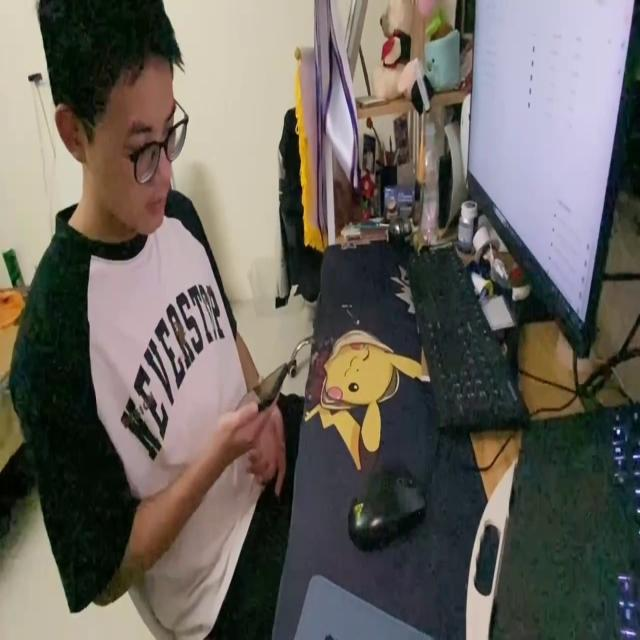laptop: (466, 0, 636, 360)
phone: (233, 357, 290, 415)
student: (9, 0, 293, 638)
